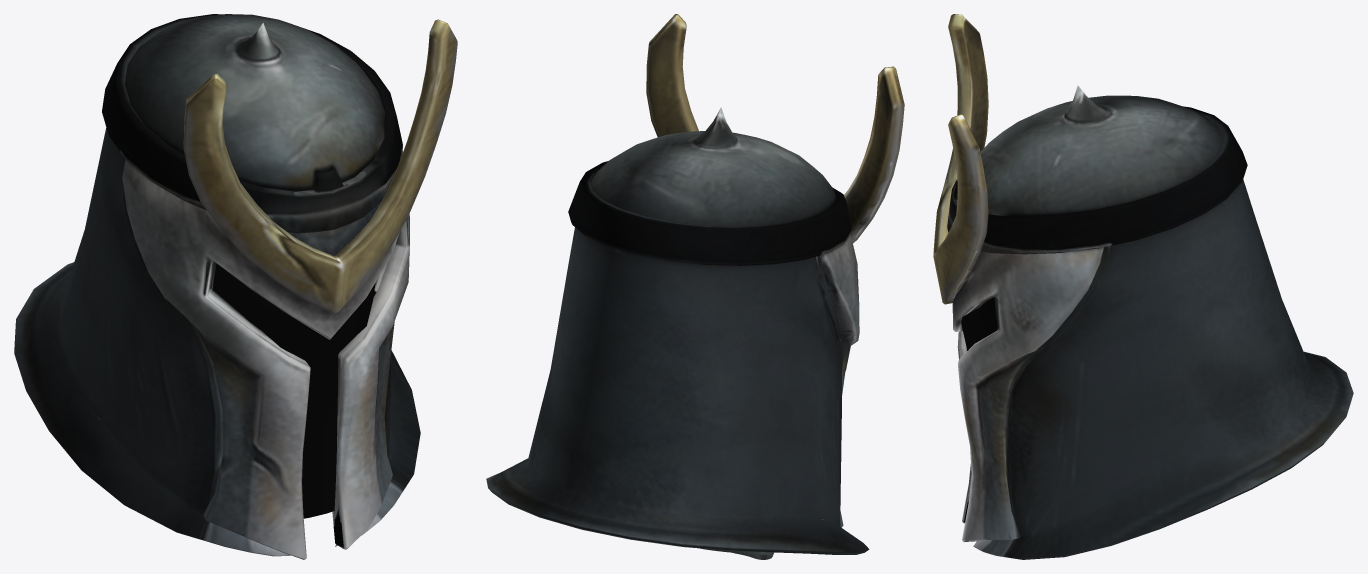
The model's file is sm_human_void_helmet.gltf.
3 renders of one model, left to right at view 1: azimuth 30°, elevation 25°; view 2: azimuth 150°, elevation 25°; view 3: azimuth 270°, elevation 25°, orthographic. The views are drawn at different scales.
Parts seen in each view (by area): view 1: sm_human_void_helmet; view 2: sm_human_void_helmet; view 3: sm_human_void_helmet.
Boxes of the visible parts, bbox=[...] form: sm_human_void_helmet: bbox=[14, 14, 457, 559]; sm_human_void_helmet: bbox=[486, 14, 904, 559]; sm_human_void_helmet: bbox=[933, 14, 1353, 559].
Bounding box in the file's own units: 26.82 × 38.44 × 31.12.
Materials: 1 (1 with a texture image).
